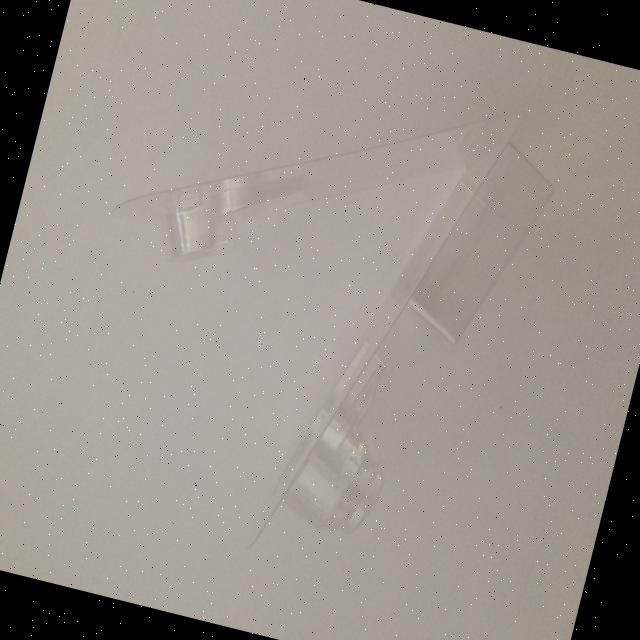plastic: (0, 14, 573, 640)
